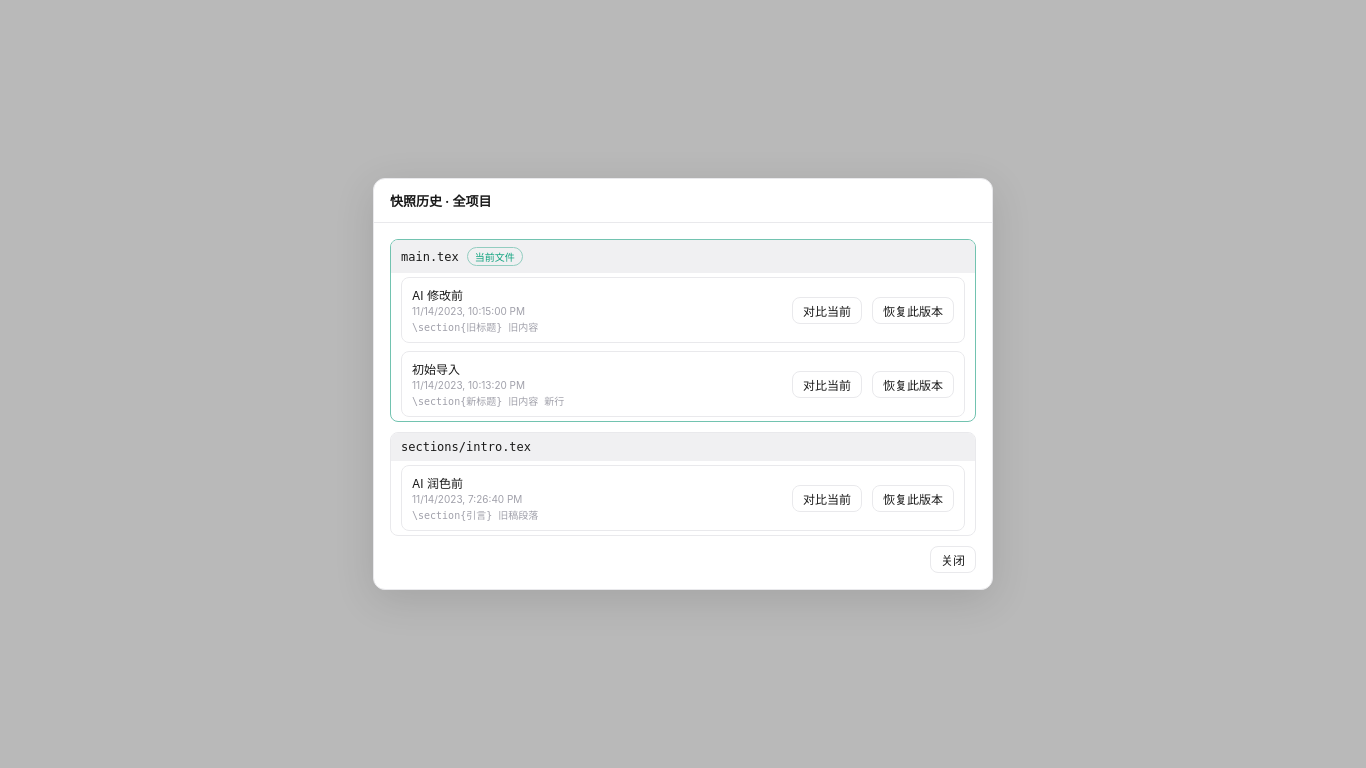
it: SnapshotDialog · 快照 diff 对比 › 快照与当前内容一致：显示「与当前版本一致」而不渲染 diff
Step 1. Click the button with class "sf-snap-compare" in the row of "初始导入" → click(827, 384), box [792,370,862,398]
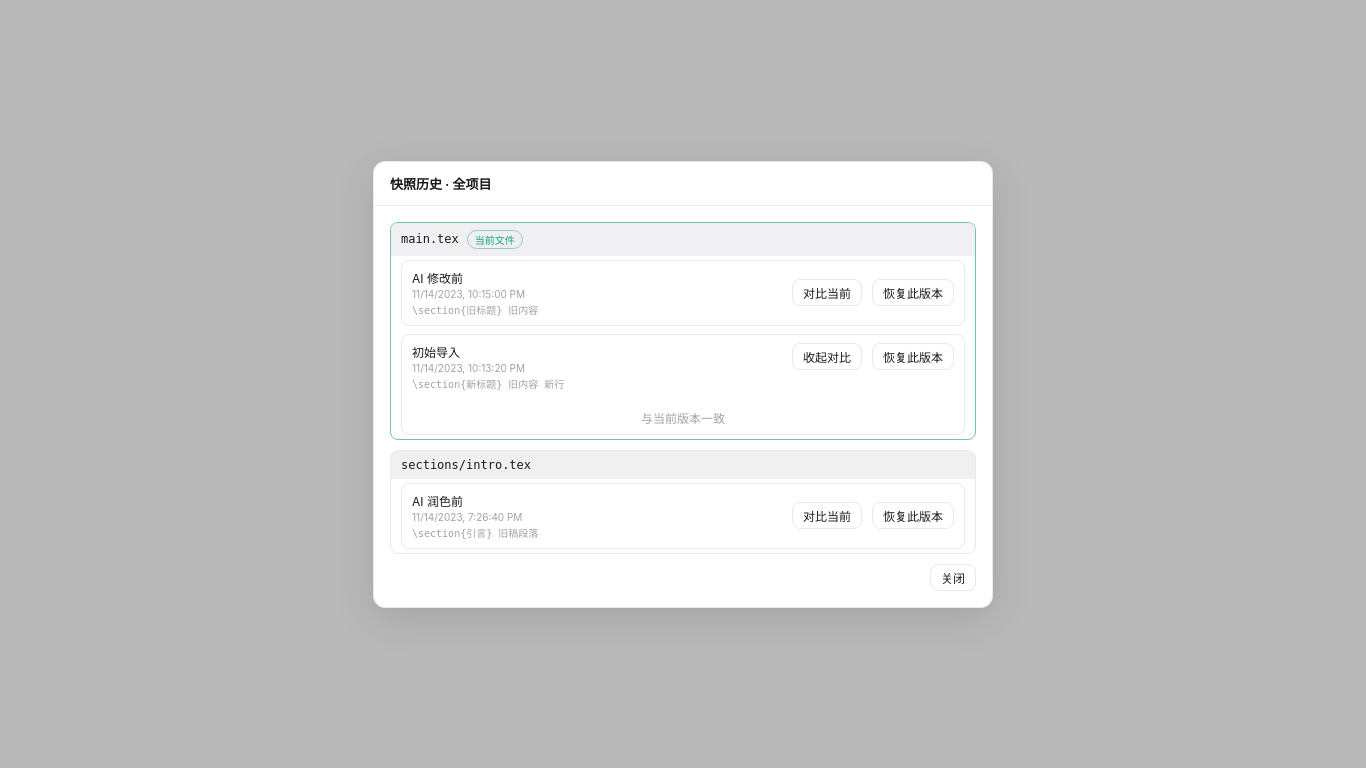
Now the text with class "sf-snap-same" reads "与当前版本一致", box [641,410,725,426]
